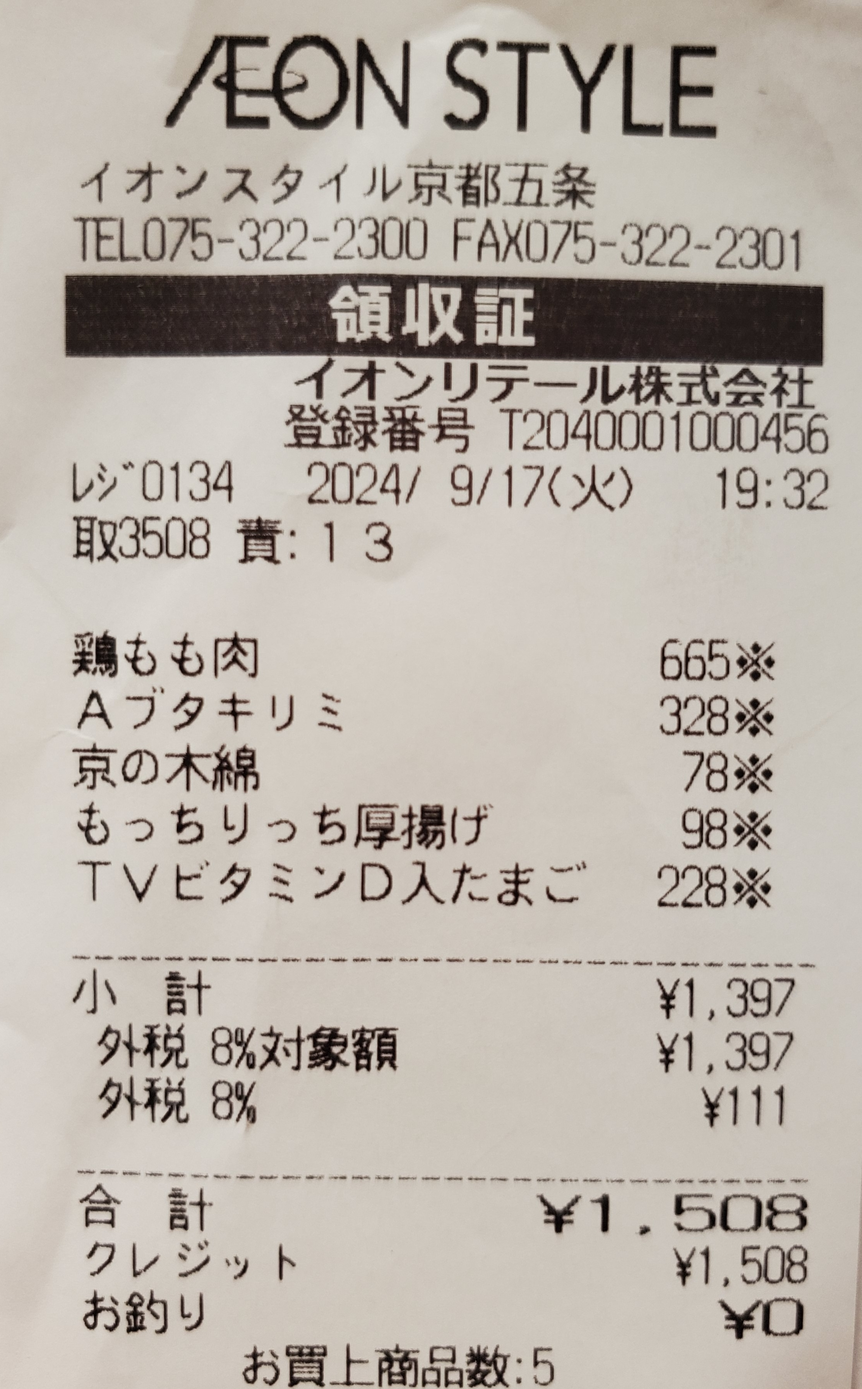Date: (297, 451, 552, 526)
Shopname: (149, 13, 739, 155)
Telnum: (136, 213, 442, 269)
Totalpay: (69, 1180, 817, 1247)
